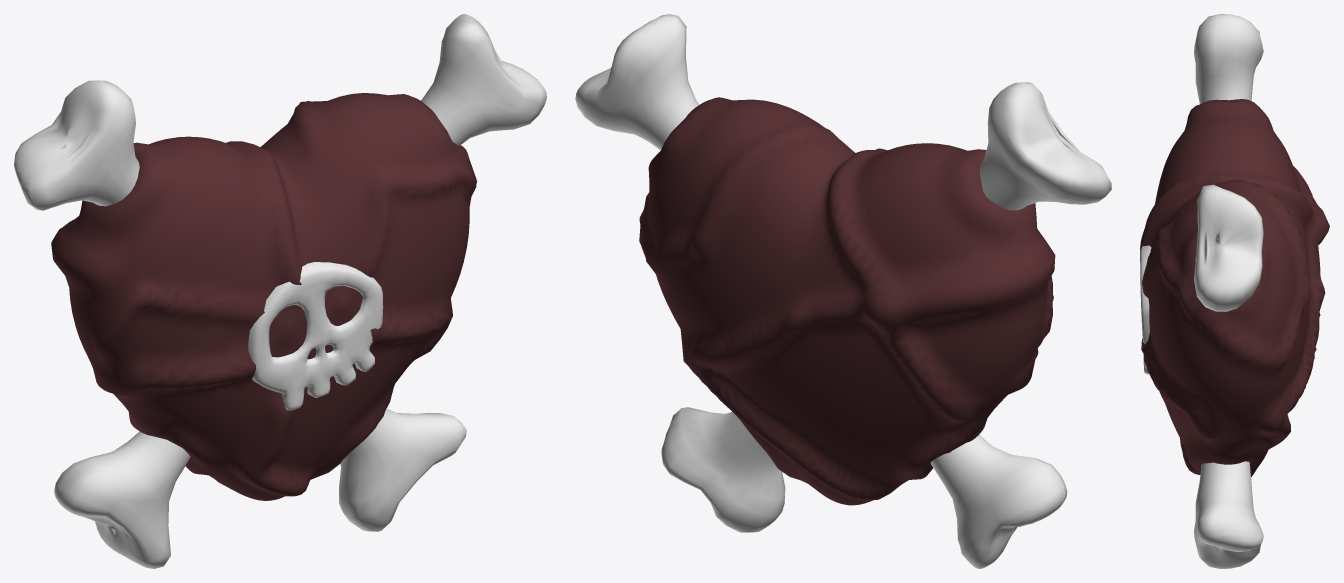
Rendered from Heart.fbx.
3 views of the same model, side by side, from view 1: azimuth 30°, elevation 25°; view 2: azimuth 150°, elevation 25°; view 3: azimuth 270°, elevation 25° (orthographic). The views are drawn at different scales.
Visible parts, largest first — view 1: 12190_Heart_v1_L3, bone, uploads_files_827396_Skull_Low, bone.003, bone.002, bone.001; view 2: 12190_Heart_v1_L3, bone, bone.003, bone.001, bone.002; view 3: 12190_Heart_v1_L3, bone.002, bone.001, bone, uploads_files_827396_Skull_Low.
Part boxes in pixels (box(x1,y1,x2,y2)): 12190_Heart_v1_L3: box(51, 93, 476, 500); bone: box(14, 80, 139, 210); uploads_files_827396_Skull_Low: box(248, 262, 383, 410); bone.003: box(54, 431, 190, 568); bone.002: box(421, 14, 546, 145); bone.001: box(339, 408, 466, 531); 12190_Heart_v1_L3: box(639, 97, 1055, 505); bone: box(979, 82, 1111, 210); bone.003: box(930, 435, 1067, 568); bone.001: box(661, 407, 785, 532); bone.002: box(575, 14, 699, 150); 12190_Heart_v1_L3: box(1140, 99, 1329, 476); bone.002: box(1194, 184, 1263, 311); bone.001: box(1194, 461, 1263, 568); bone: box(1194, 14, 1263, 104); uploads_files_827396_Skull_Low: box(1140, 245, 1151, 374).
Size of the model in its own units: 715 by 669 by 262.
